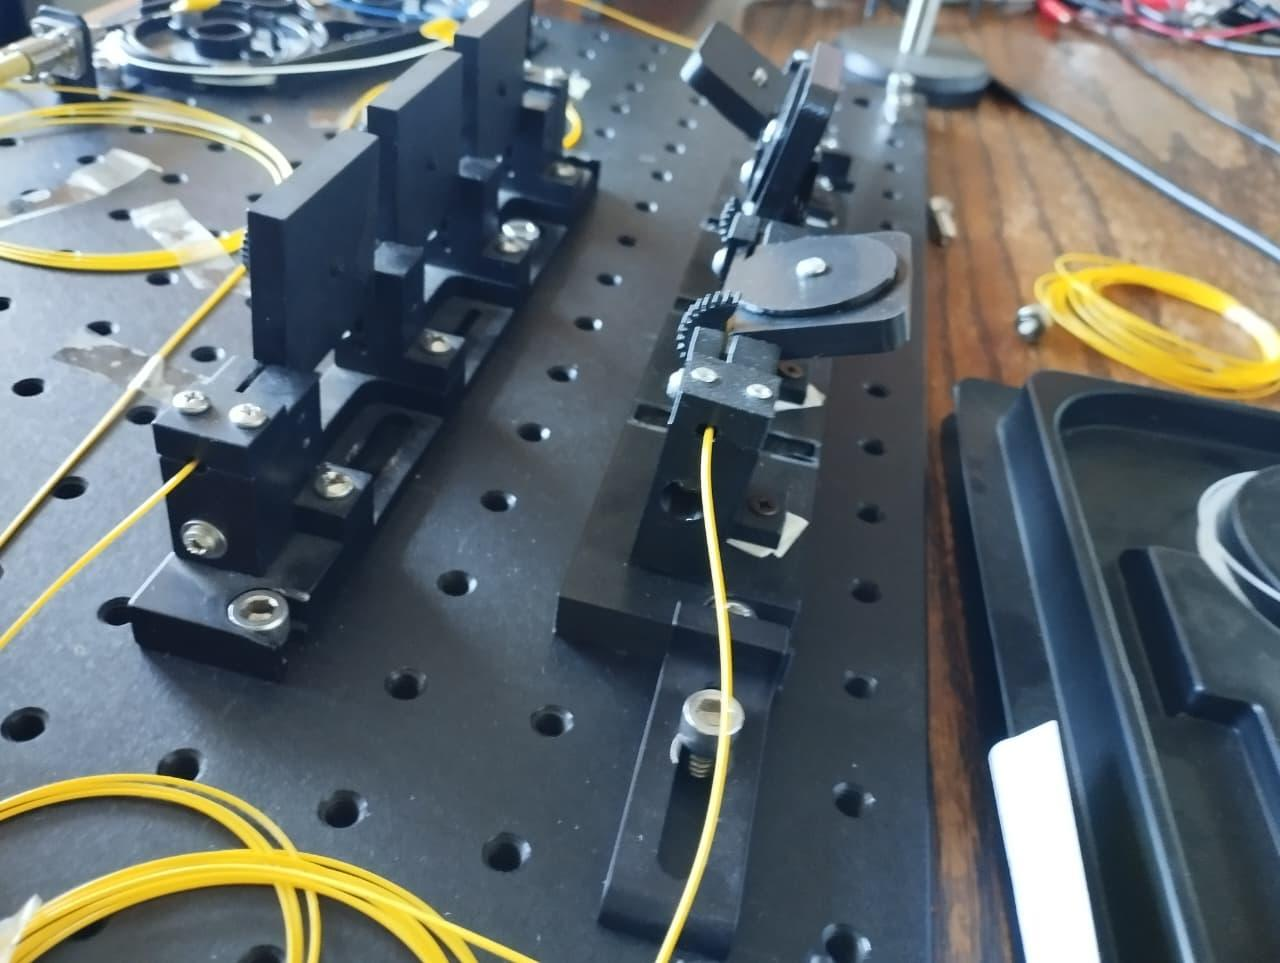fiber_cable: (0, 766, 566, 963), (998, 222, 1280, 458), (0, 63, 298, 267)
paddle_polarization_controller: (534, 23, 926, 961), (117, 0, 621, 715)
